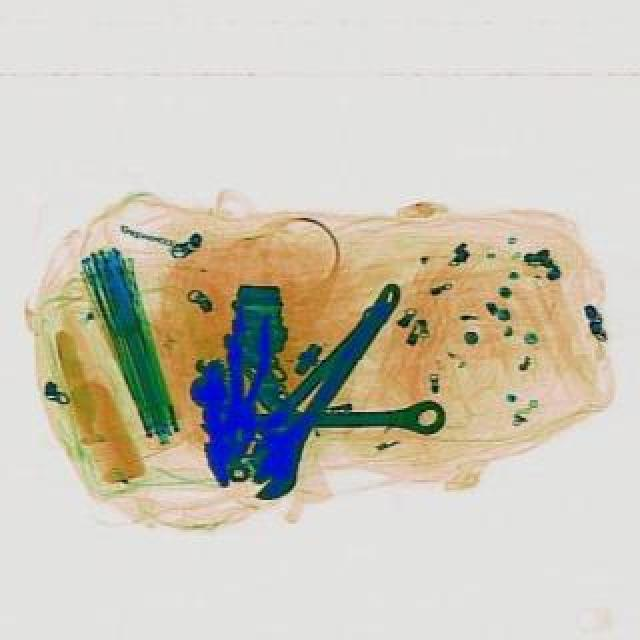scissors: (230, 272, 418, 510)
wrench: (214, 304, 272, 458)
